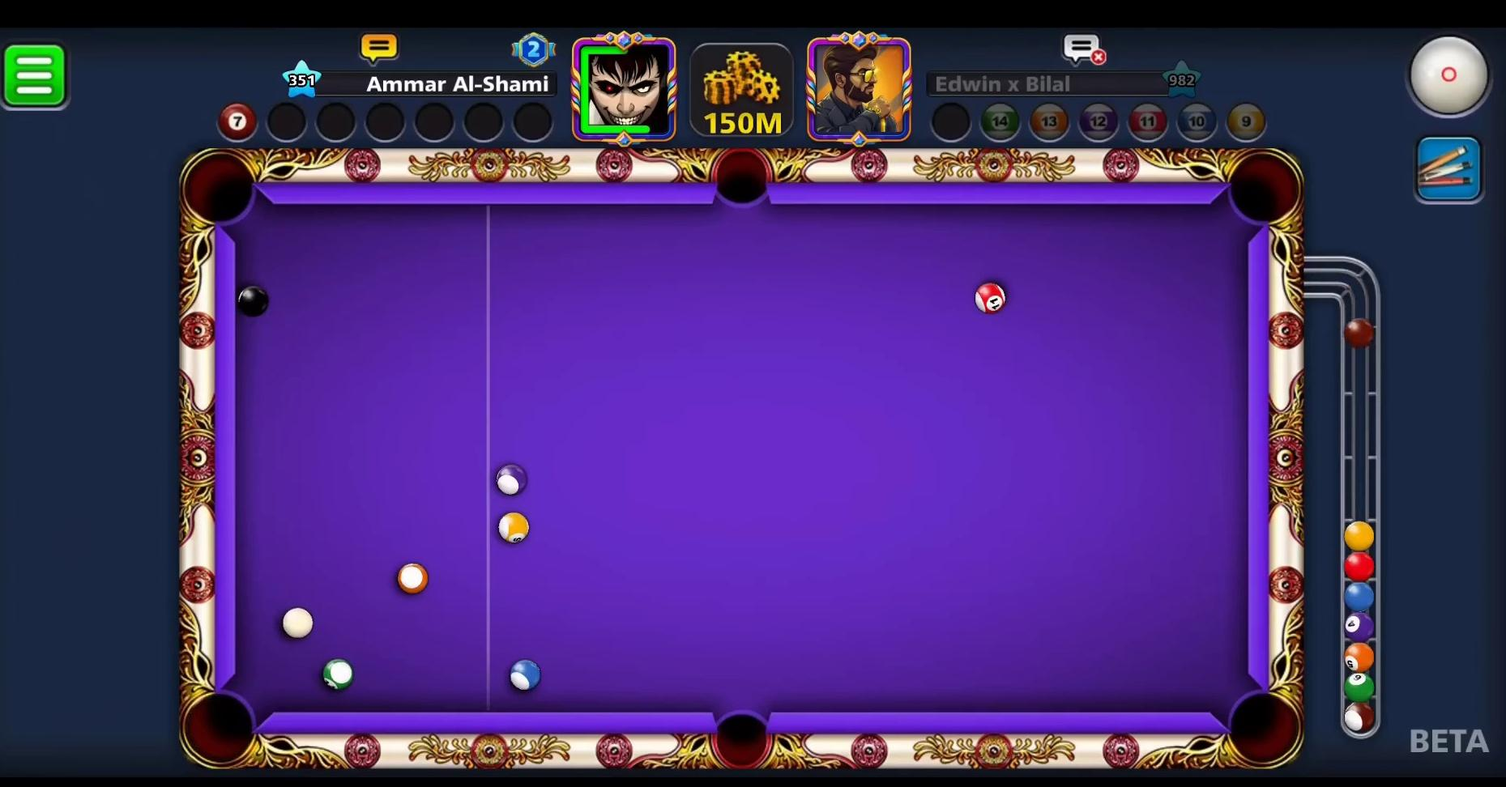Ball: (497, 652, 547, 697), (226, 282, 278, 322), (313, 657, 362, 696), (488, 459, 533, 499), (971, 277, 1009, 320), (494, 510, 535, 547), (393, 562, 432, 598)
Hole: (167, 678, 272, 774), (1210, 675, 1309, 776), (176, 143, 267, 234), (697, 688, 791, 775), (1217, 142, 1306, 232), (699, 143, 783, 221)
Play_Area: (235, 204, 1247, 715)
Spin: (1402, 28, 1504, 128)
White: (275, 606, 317, 640)
